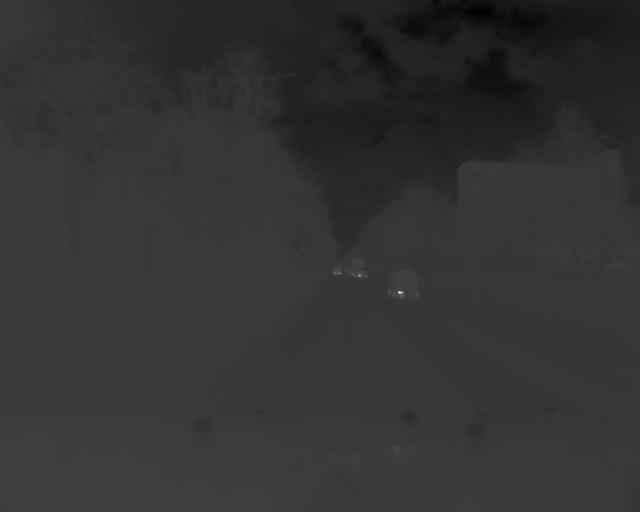car: (385, 267, 420, 301)
